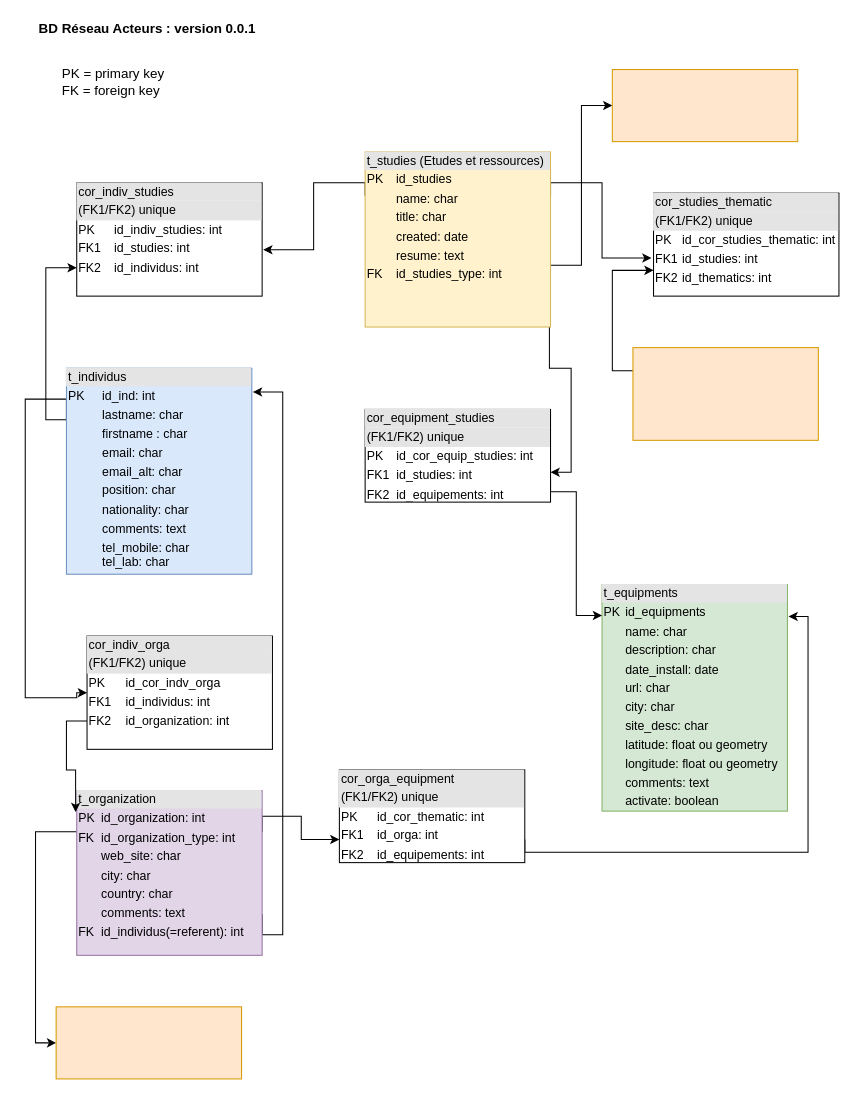
Some shapes in this 857 by 1097 pixel diagram are drawn without their labels. The centre of each missing label's shape, as x and y in pixels:
"t_organization_type PK id_organization_type: int label_default: char" belongs at pixel 148 1042.
"t_studies_type PK id_studies_type: int label_default: char" belongs at pixel 704 105.
"t_thematic PK id_thematic: int lable_default: char" belongs at pixel 725 393.
